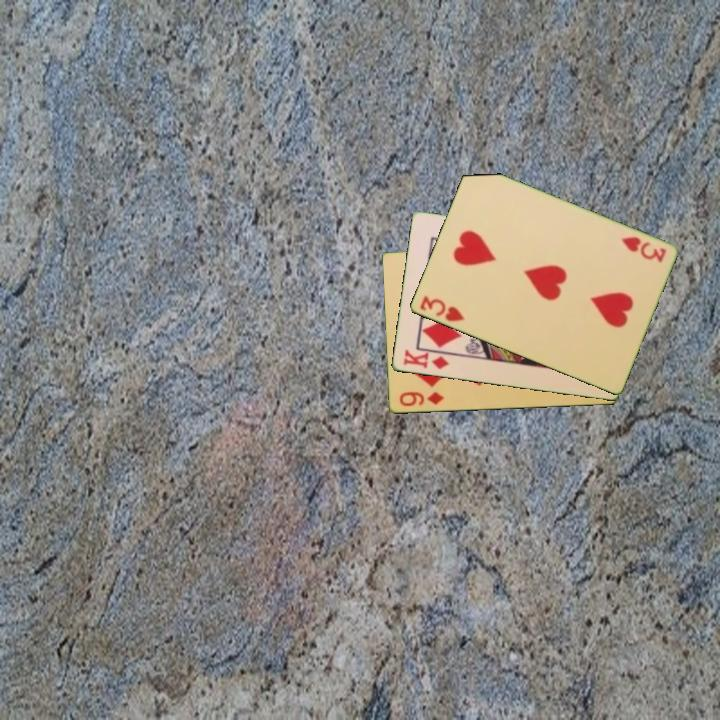3h: (617, 233, 669, 266), (416, 292, 467, 325)
9d: (396, 388, 447, 410)
Kd: (400, 346, 452, 372)
